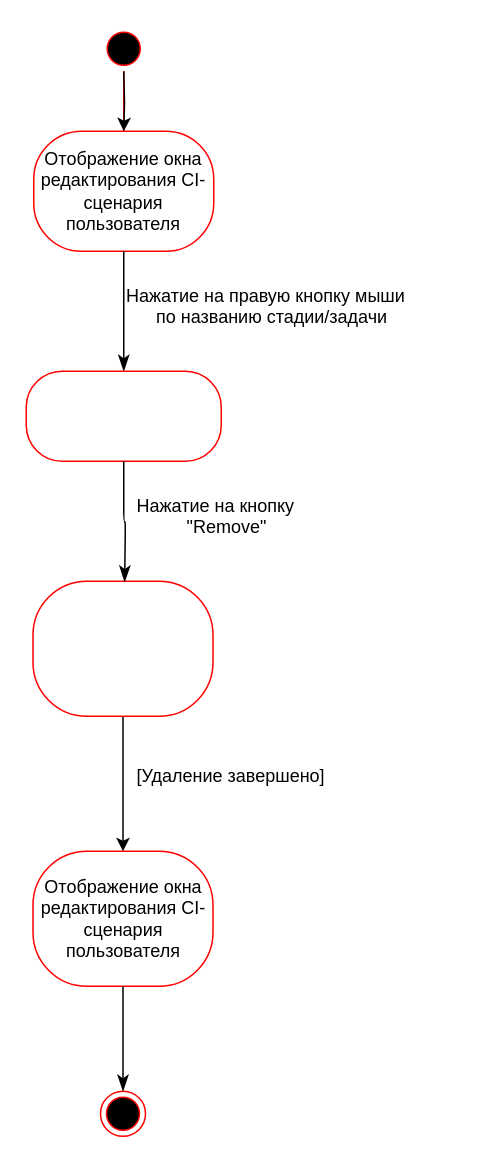
This 495x1163 diagram has some shape labels left out. Each missing label, with the box of its shape:
Ожидание удаления стадии/задачи CI-сценария: (32, 580, 213, 716)
Отображение окна списка опций: (25, 370, 221, 461)
